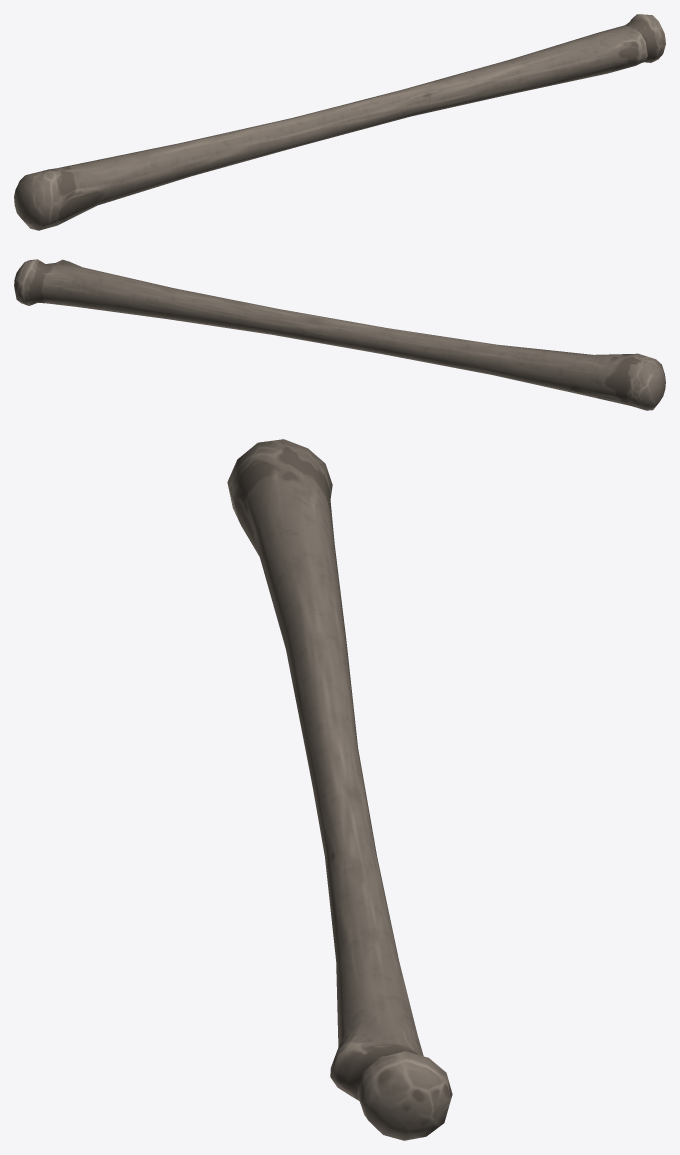
File: Li_TEMP_Bone.FBX
3 renders of one model, top to bottom at view 1: azimuth 30°, elevation 25°; view 2: azimuth 150°, elevation 25°; view 3: azimuth 270°, elevation 25°, orthographic. The views are drawn at different scales.
Visible parts, largest first — view 1: LI_TEMP_Bone_LOD0; view 2: LI_TEMP_Bone_LOD0; view 3: LI_TEMP_Bone_LOD0.
Part boxes in pixels (bbox=[...]): LI_TEMP_Bone_LOD0: bbox=[14, 14, 665, 230]; LI_TEMP_Bone_LOD0: bbox=[14, 259, 665, 410]; LI_TEMP_Bone_LOD0: bbox=[227, 439, 452, 1140].
Size of what is drawn, in the model's own units: 124 by 12.13 by 19.84.
1 material, 1 textured.
